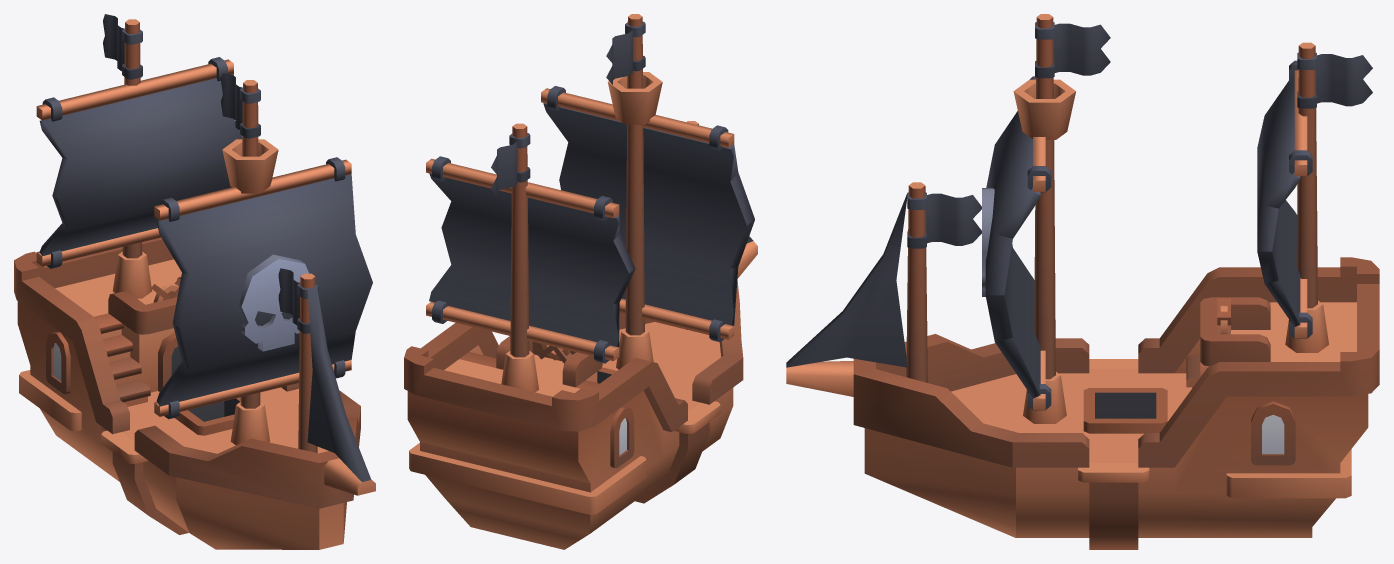
The model's file is ship-pirate-medium.glb.
3 renders of one model, left to right at view 1: azimuth 30°, elevation 25°; view 2: azimuth 150°, elevation 25°; view 3: azimuth 270°, elevation 25°, orthographic. The views are drawn at different scales.
Visible parts, largest first — view 1: ship-pirate-medium, sail-a, sail-b, flag-b, flag-c, flag-a; view 2: ship-pirate-medium, sail-a, sail-b, flag-c, flag-b; view 3: ship-pirate-medium, sail-a, sail-b, flag-b, flag-c, flag-a.
Part boxes in pixels (left/top/right/bottom): ship-pirate-medium: left=14, top=19, right=375, bottom=549; sail-a: left=154, top=157, right=372, bottom=419; sail-b: left=36, top=57, right=242, bottom=268; flag-b: left=220, top=73, right=260, bottom=138; flag-c: left=103, top=14, right=142, bottom=79; flag-a: left=278, top=268, right=318, bottom=333; ship-pirate-medium: left=404, top=14, right=757, bottom=549; sail-a: left=541, top=86, right=754, bottom=341; sail-b: left=426, top=156, right=635, bottom=363; flag-c: left=491, top=133, right=530, bottom=196; flag-b: left=606, top=21, right=645, bottom=84; ship-pirate-medium: left=786, top=14, right=1379, bottom=549; sail-a: left=982, top=76, right=1051, bottom=410; sail-b: left=1257, top=60, right=1312, bottom=338; flag-b: left=1035, top=22, right=1110, bottom=78; flag-c: left=1297, top=52, right=1372, bottom=108; flag-a: left=907, top=192, right=981, bottom=248.
Bounding box in the file's own units: 4.8 × 9.96 × 10.6.
1 material, 1 textured.
